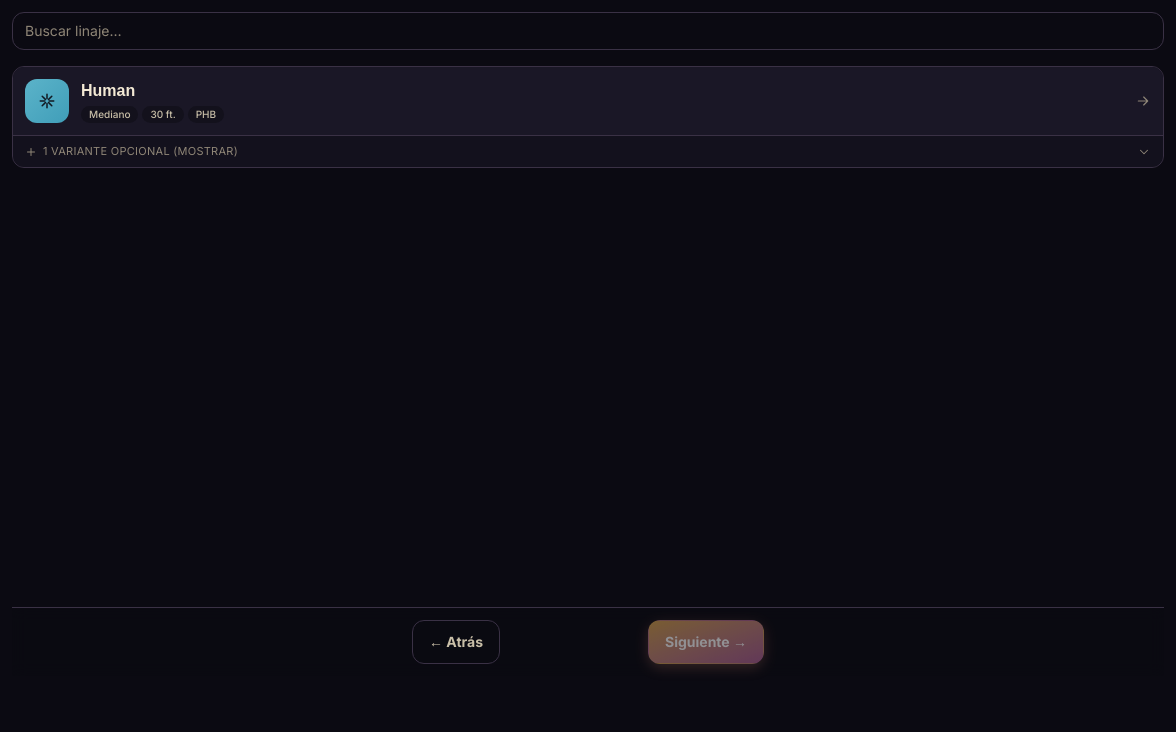
Test: W-E7: non-required races with subraces render as groups with SELECTABLE parent › Variant Human variant is hidden by default and visible after clicking the variants toggle
The width and height of the screenshot is (1176, 732).
Expected: the text "Human" is shown, [81,78,135,100]
Expected: the text "Variant Human" is not shown
Click the variants toggle button → variants become visible.
Click the button "1 variante opcional (mostrar)" at (78, 151), box [13,135,1163,167]
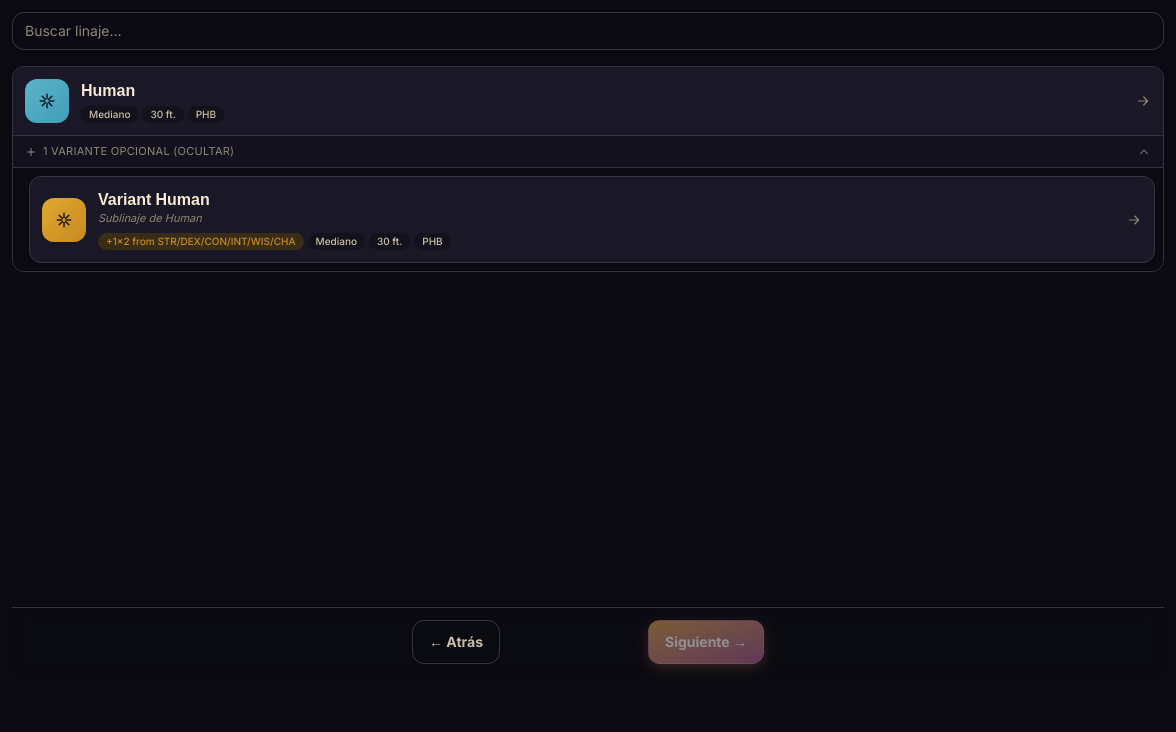
Now the text "Variant Human" is shown, box [98,188,210,210]
